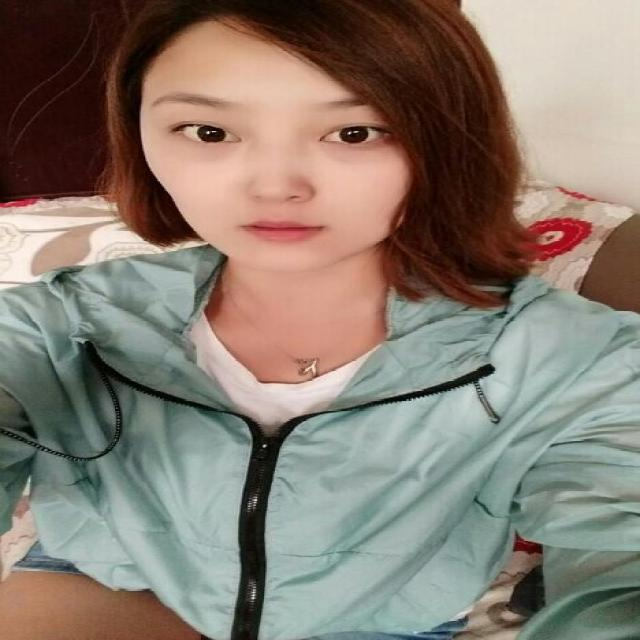long sleeve top: (1, 247, 637, 638)
